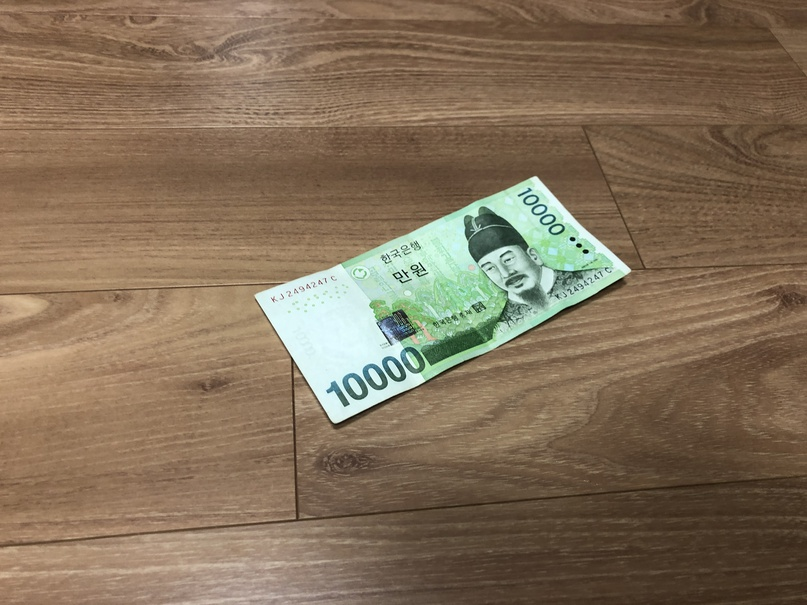10000won: (254, 176, 631, 427)
